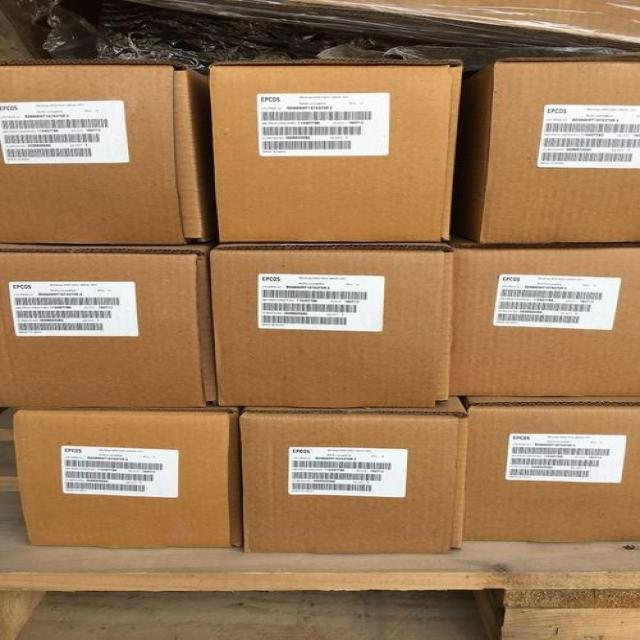box: (214, 61, 459, 241), (210, 240, 454, 410), (0, 60, 220, 247), (0, 242, 219, 406), (451, 57, 639, 247), (239, 400, 467, 551), (6, 407, 239, 546), (449, 240, 638, 404), (463, 404, 639, 541)
